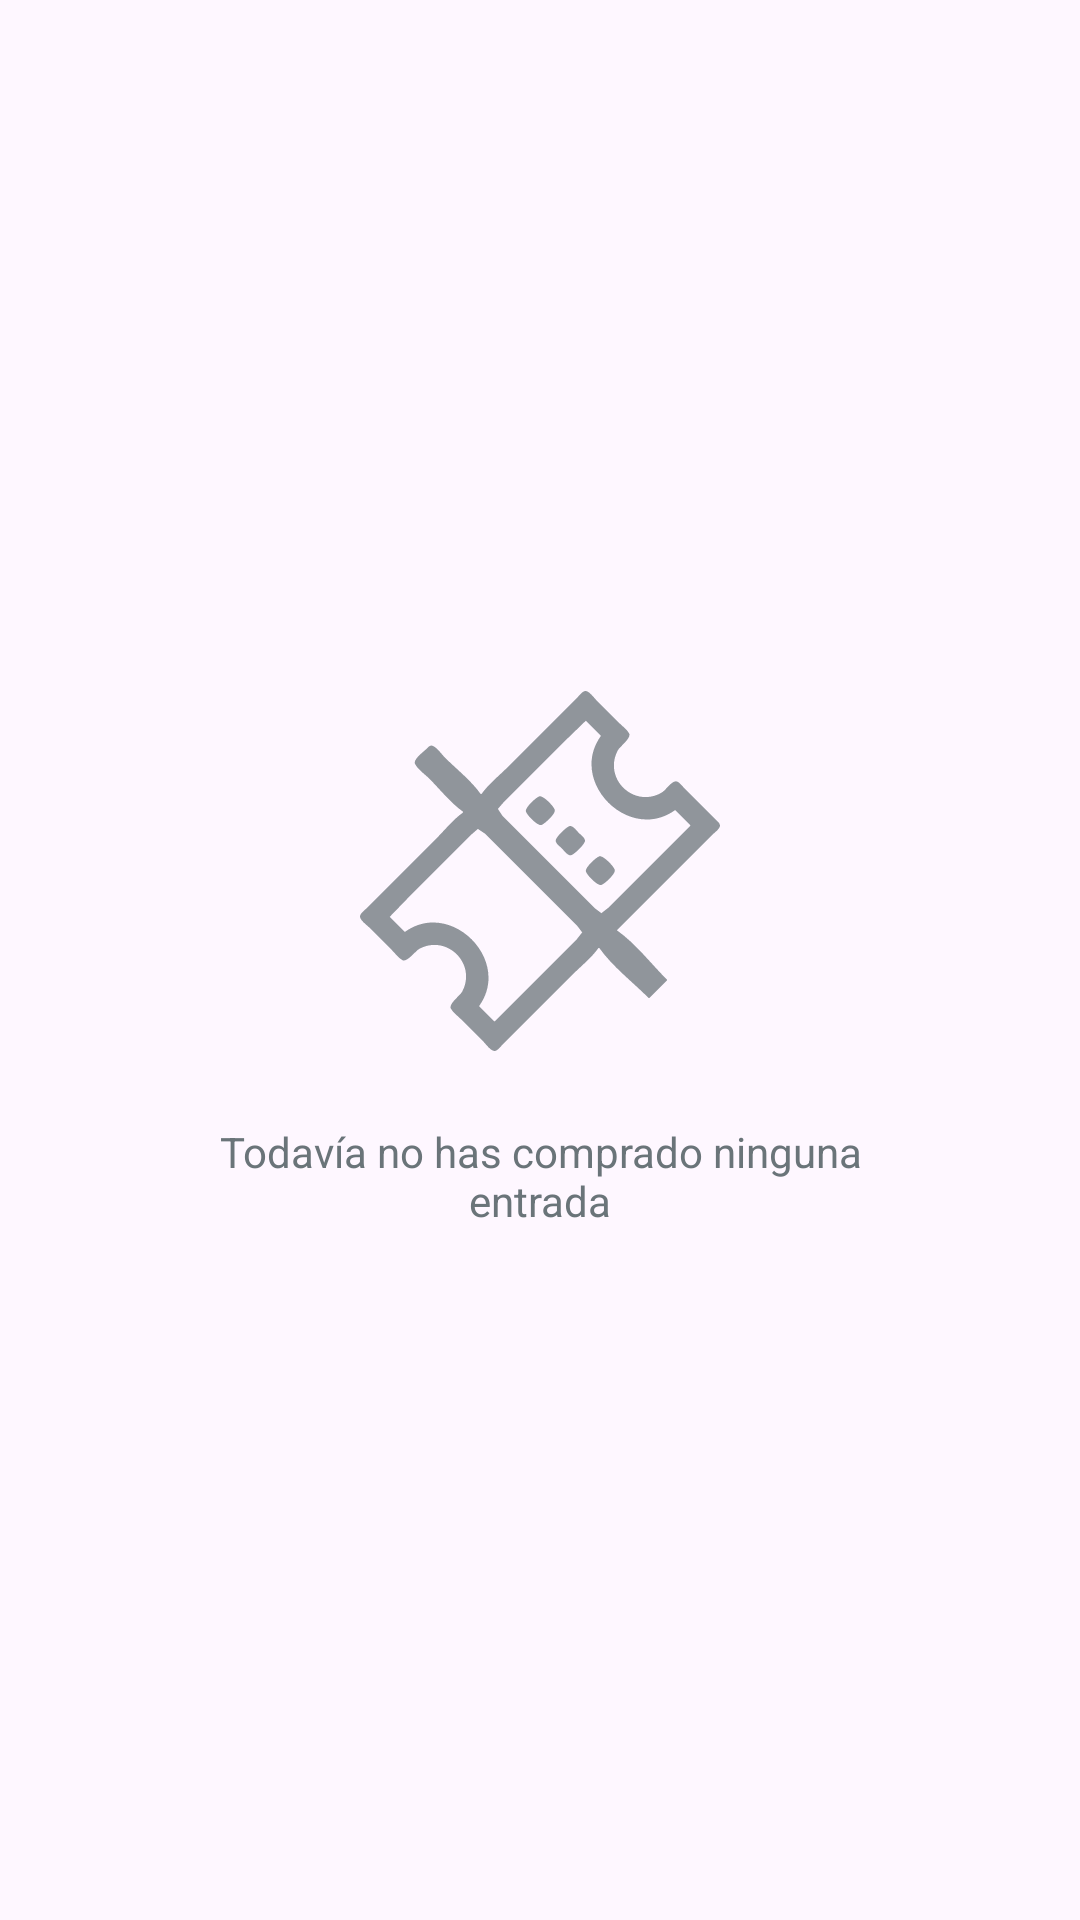

Screen size 1080w x 1920h. Icon name, then its box in pixels as (x1, y1, x2, y2):
ticket no: (360, 691, 720, 1051)
